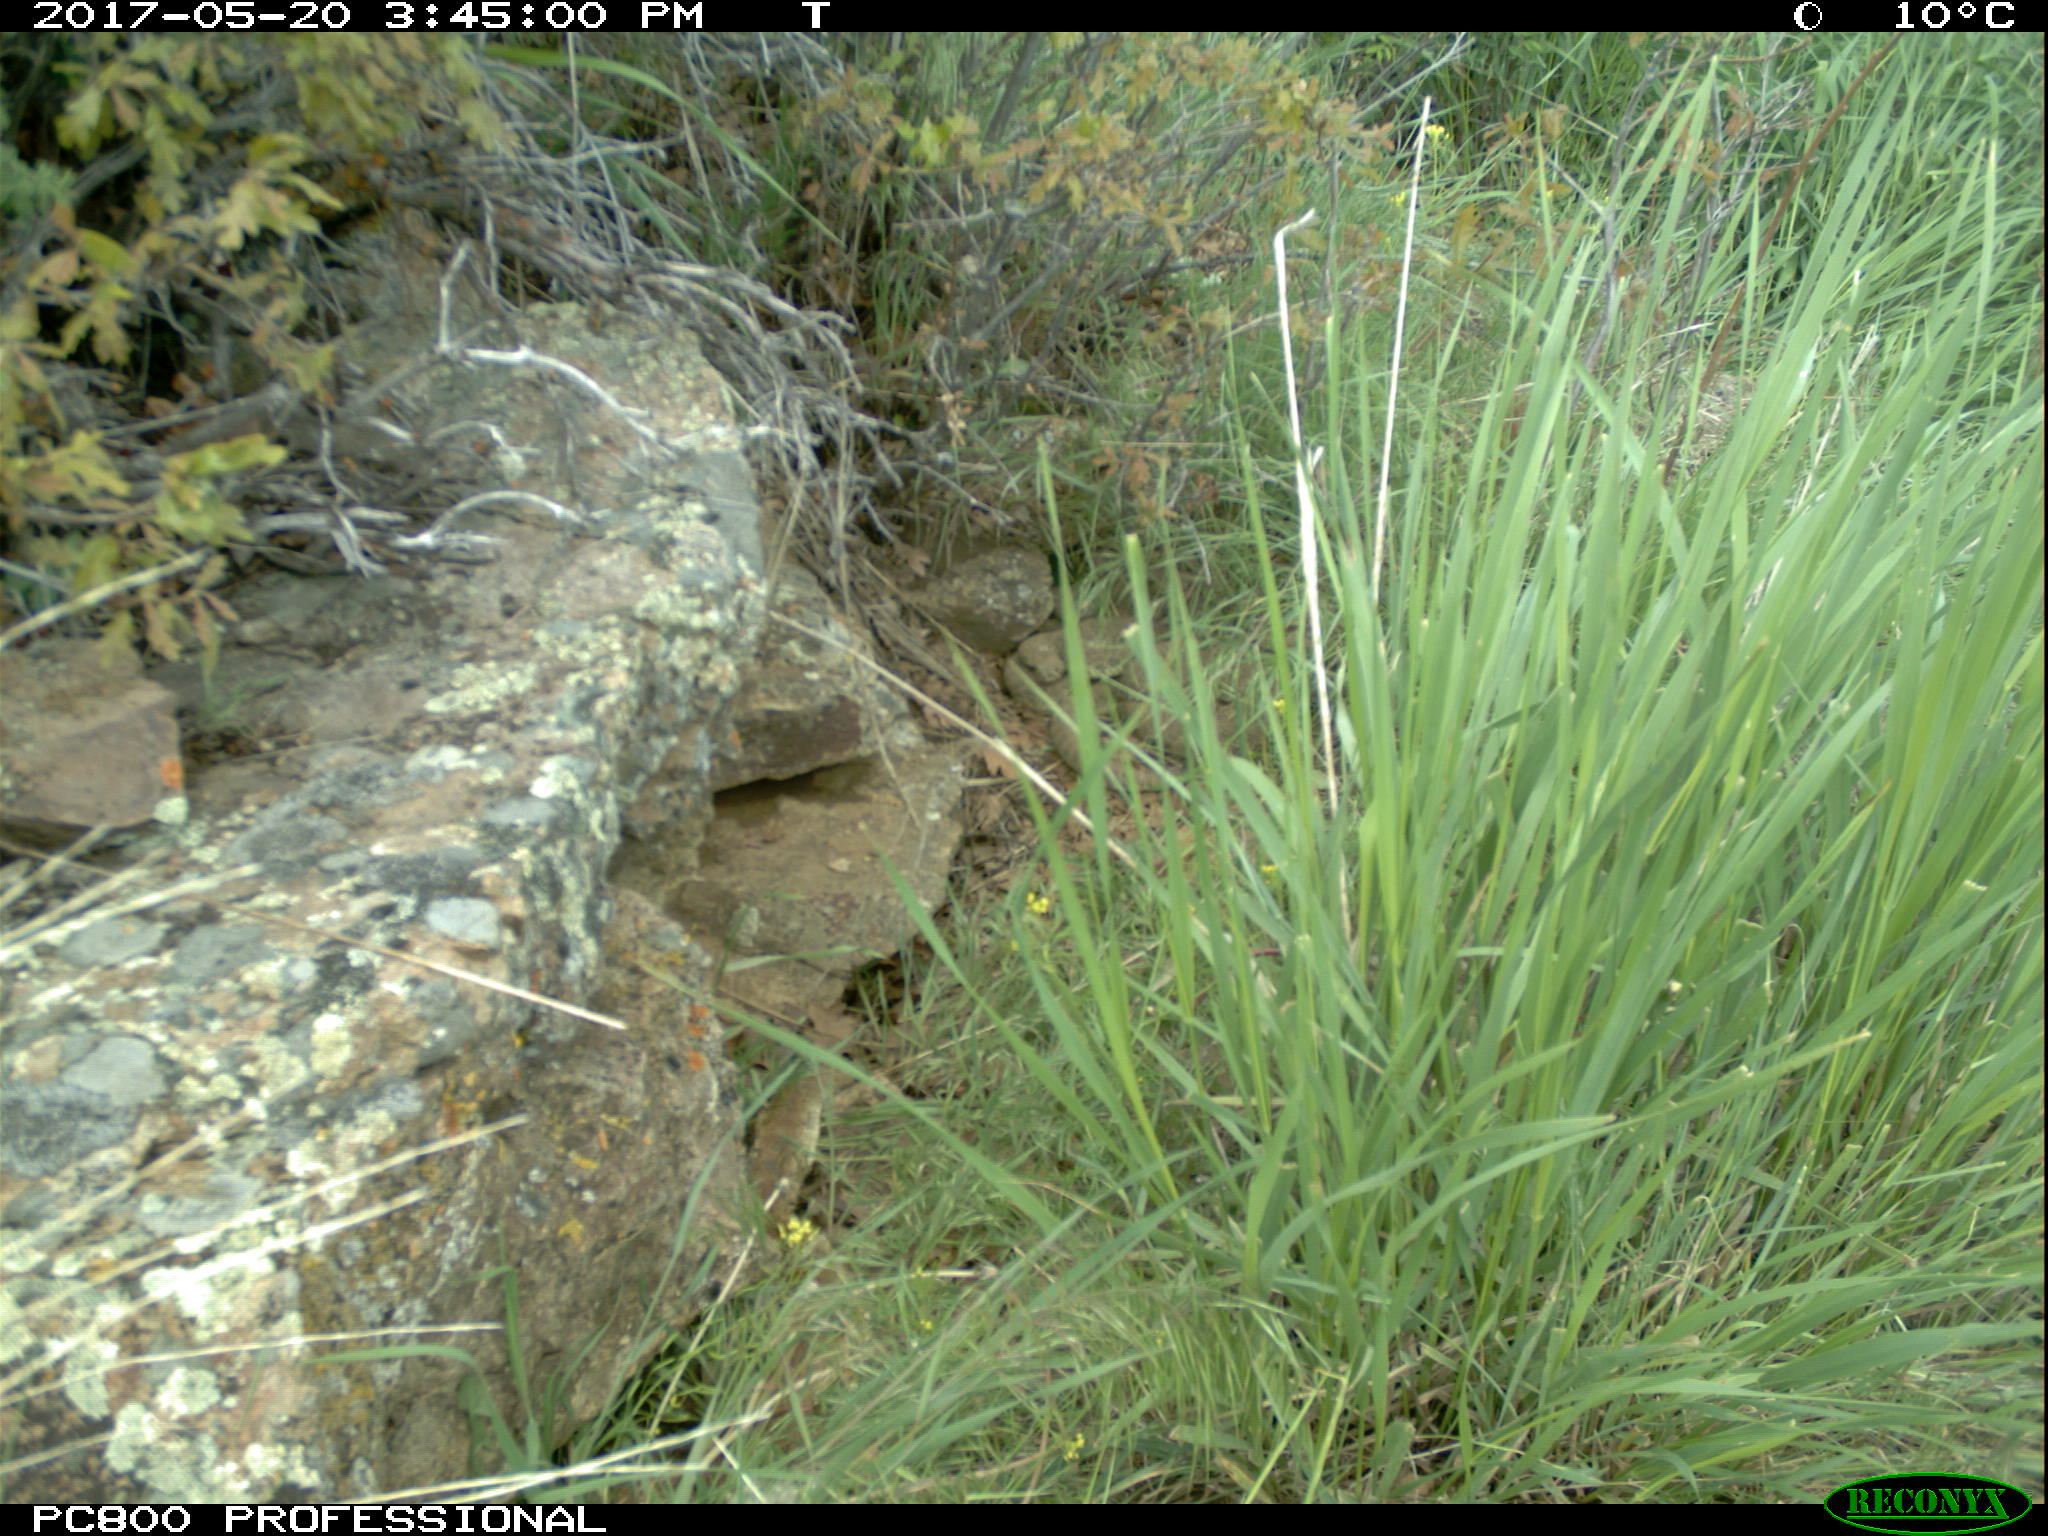snake: (1000, 616, 1279, 792), (747, 1070, 826, 1350)
